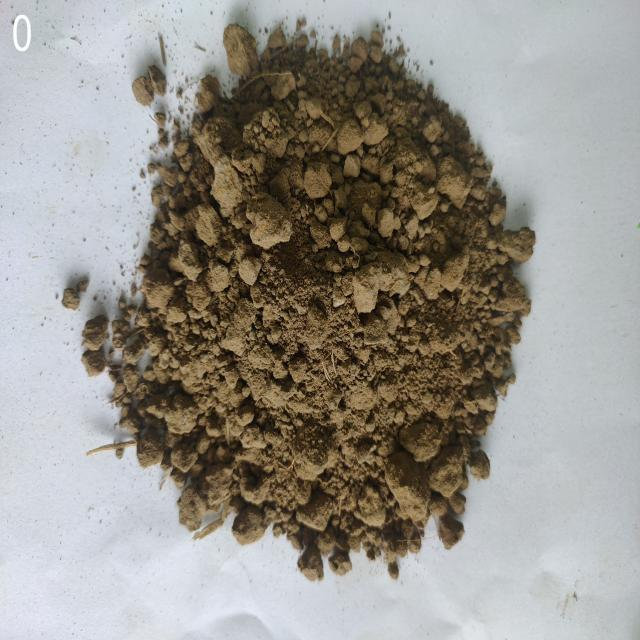soil: (180, 136, 450, 481)
